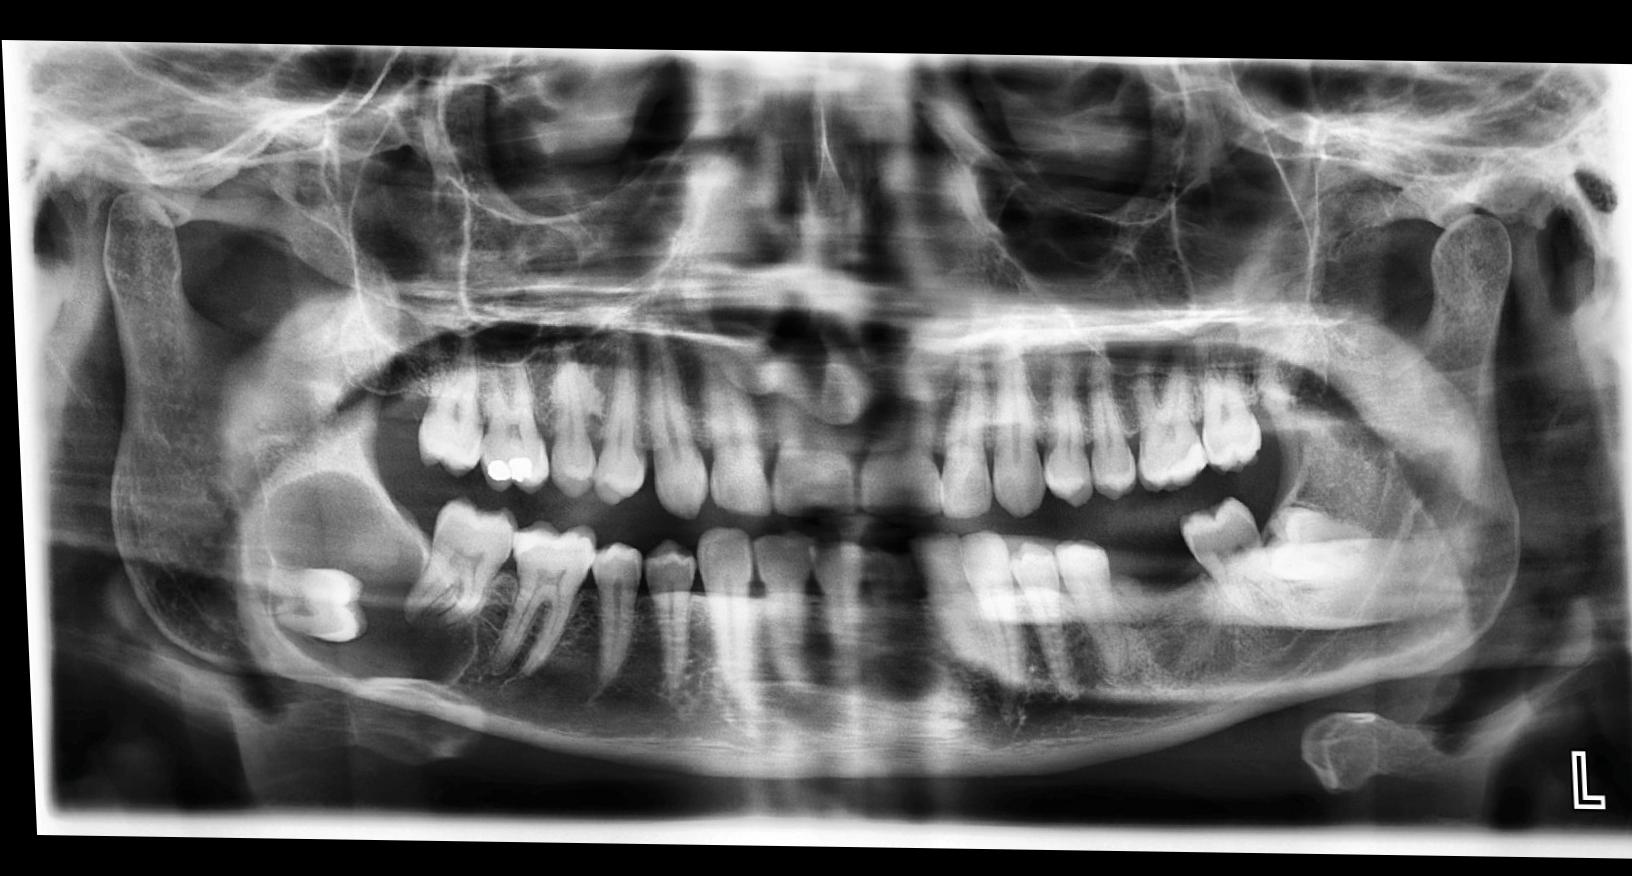dentigeroz: (252, 466, 474, 688)
